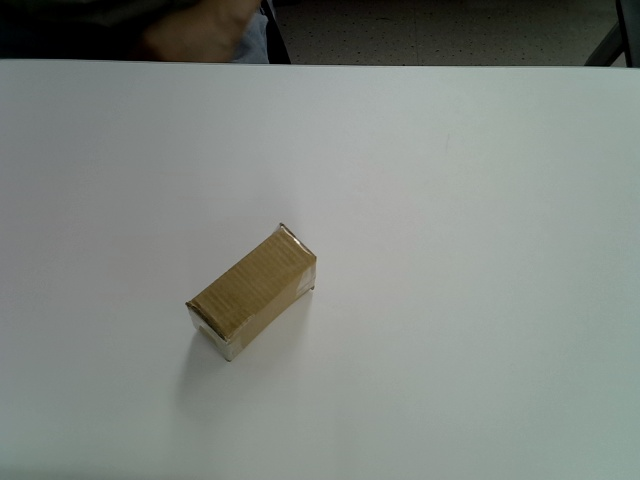normal: (186, 222, 318, 363)
